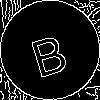B: (25, 25, 71, 79)
